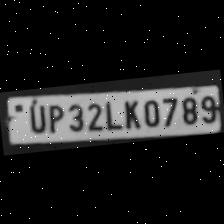0: (138, 94, 162, 128)
2: (83, 98, 105, 132)
3: (62, 100, 84, 132)
7: (157, 92, 179, 128)
8: (176, 92, 200, 126)
9: (196, 90, 220, 124)
K: (119, 95, 142, 129)
L: (100, 96, 120, 130)
P: (43, 99, 65, 133)
U: (22, 100, 46, 134)
